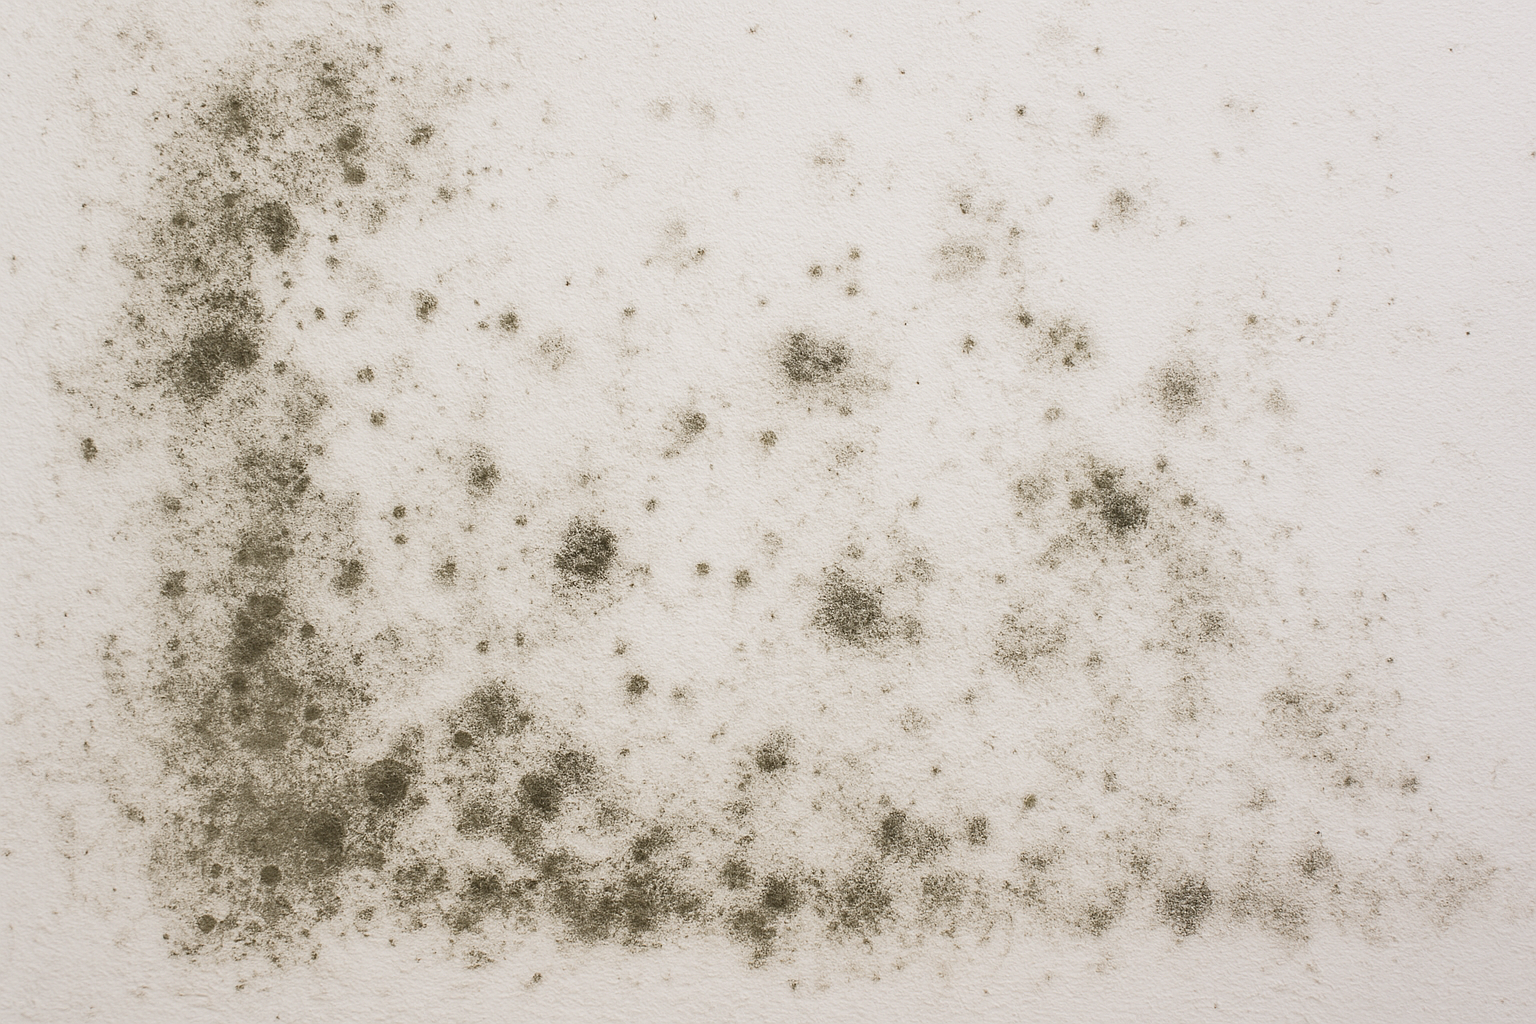schimmel: (459, 679, 805, 969), (227, 467, 418, 894), (131, 69, 321, 392), (805, 545, 944, 659), (521, 456, 626, 600)
